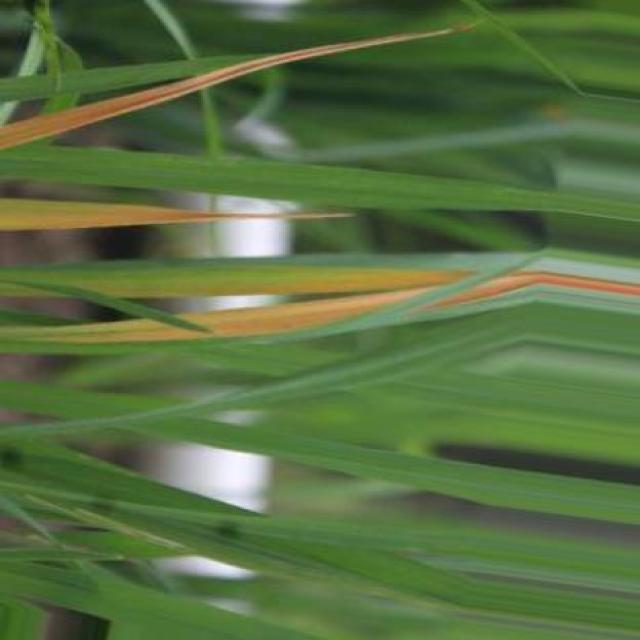Rice Tungro: (0, 26, 472, 148), (2, 289, 425, 342), (0, 261, 470, 298), (0, 198, 351, 231)
